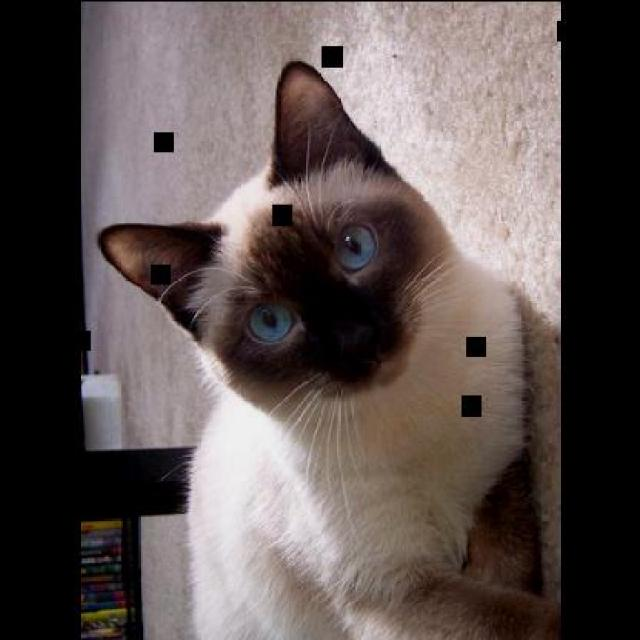unauthorized: (95, 59, 560, 638)
